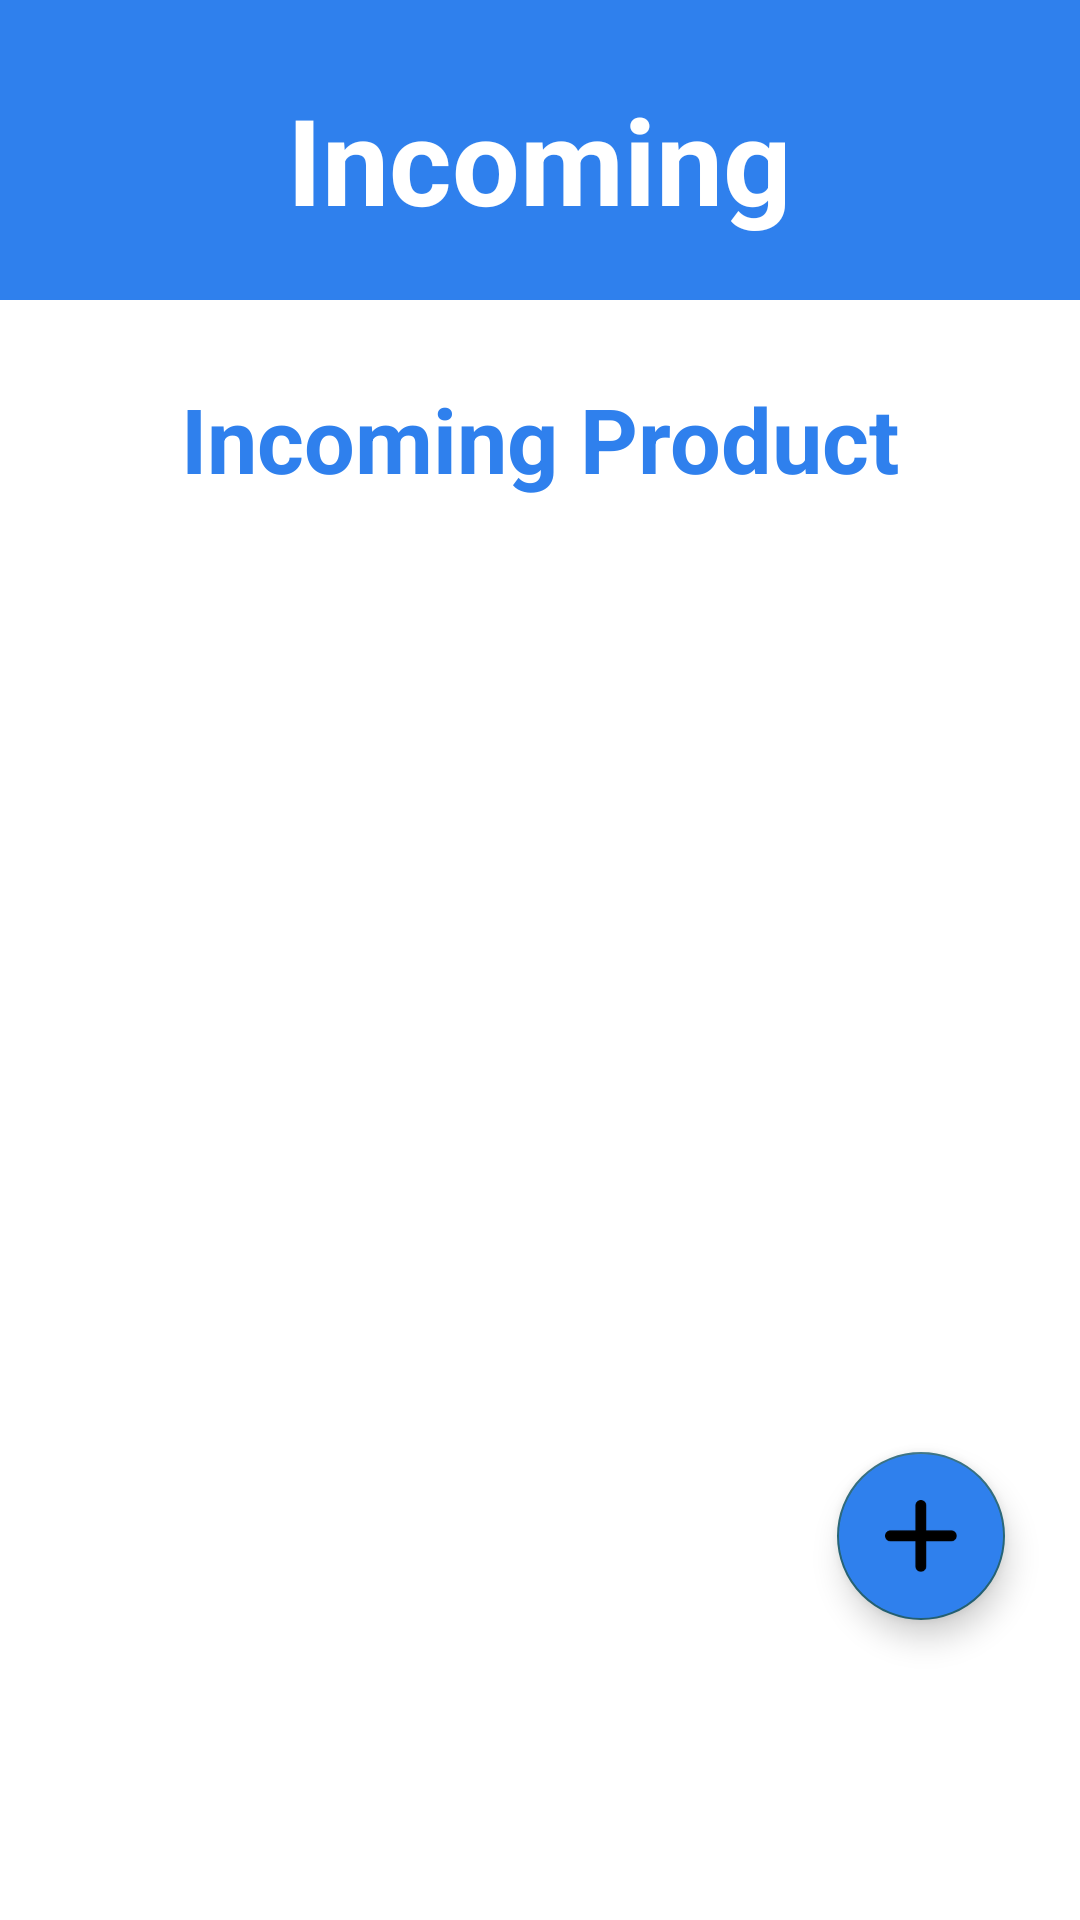

Where icons sit on this 1080 x 1920 app screen, as (x1, y1, x2, y2):
Tambah: (837, 1452, 1005, 1620)
